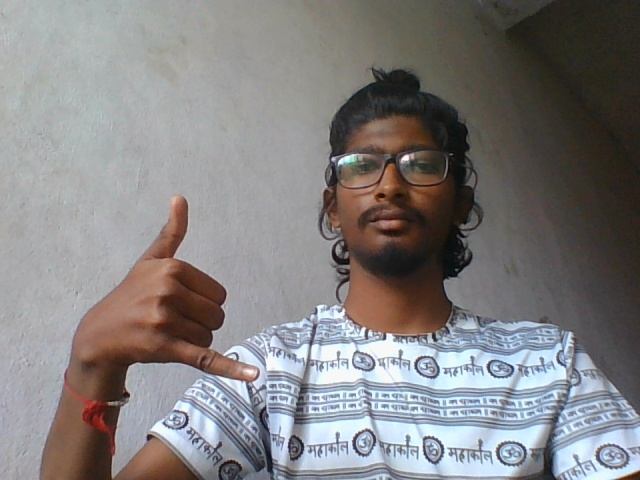Yes: (49, 187, 275, 389)
